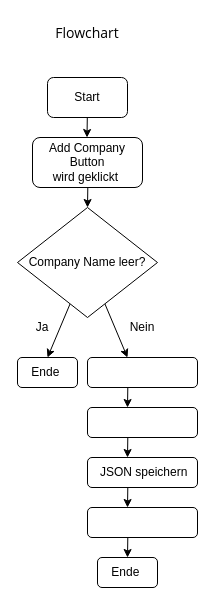
Image size: 215x605. Some labels were removed from this diagram. The centre of each missing label's shape, as x and y in pixels:
"Company erstellen" goes at point 142,372.
"Eingabefelder leeren" goes at point 142,522.
"In Collection hinzufügen" goes at point 142,422.
